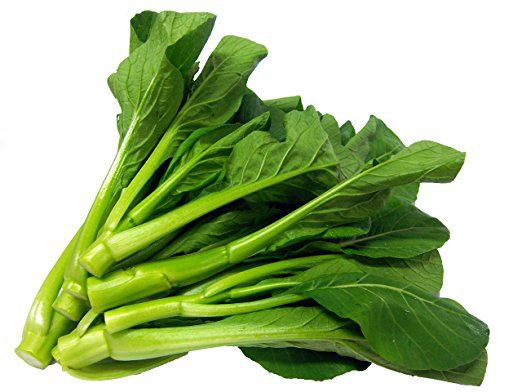Sawi: (10, 23, 512, 392)
